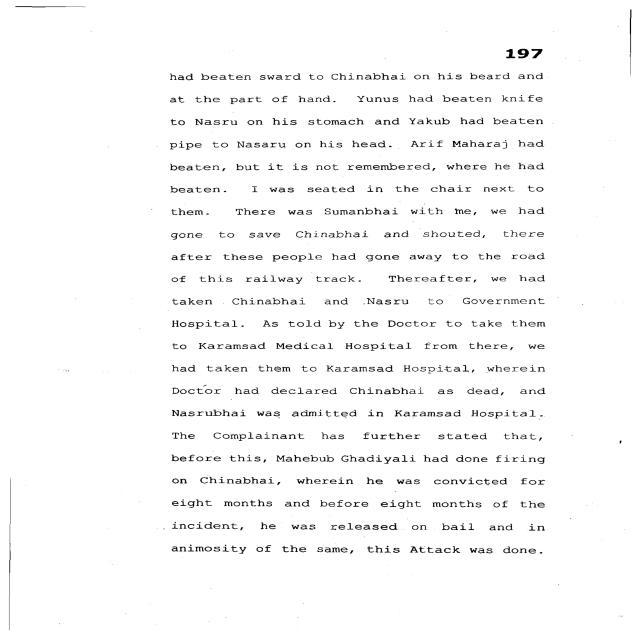page-number: (414, 1, 627, 64)
